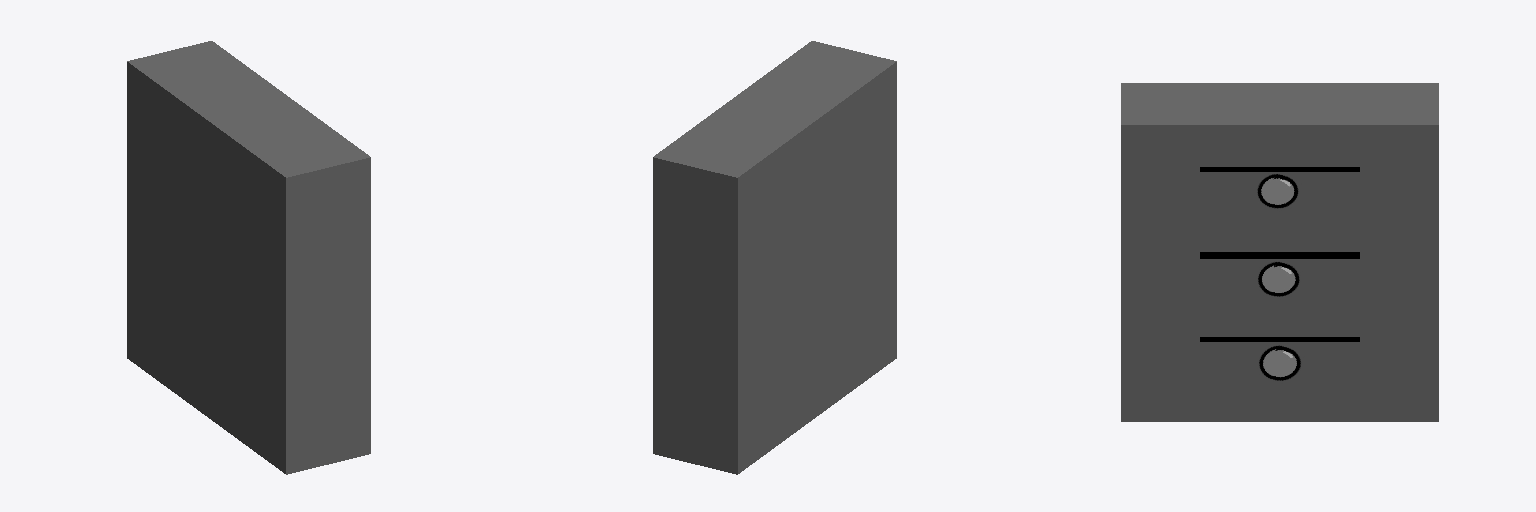
3 views of the same model, side by side, from view 1: azimuth 30°, elevation 25°; view 2: azimuth 150°, elevation 25°; view 3: azimuth 270°, elevation 25° (orthographic).
Parts seen in each view (by area): view 1: mesaNoche:Mesh; view 2: mesaNoche:Mesh; view 3: mesaNoche:Mesh.
Boxes of the visible parts, x1,y1,x2,y2 form: mesaNoche:Mesh: [127, 41, 370, 474]; mesaNoche:Mesh: [653, 41, 896, 474]; mesaNoche:Mesh: [1121, 83, 1438, 421].
Size of the model in its own units: 2.32 by 6.67 by 6.49.
1 materials, 1 textured.